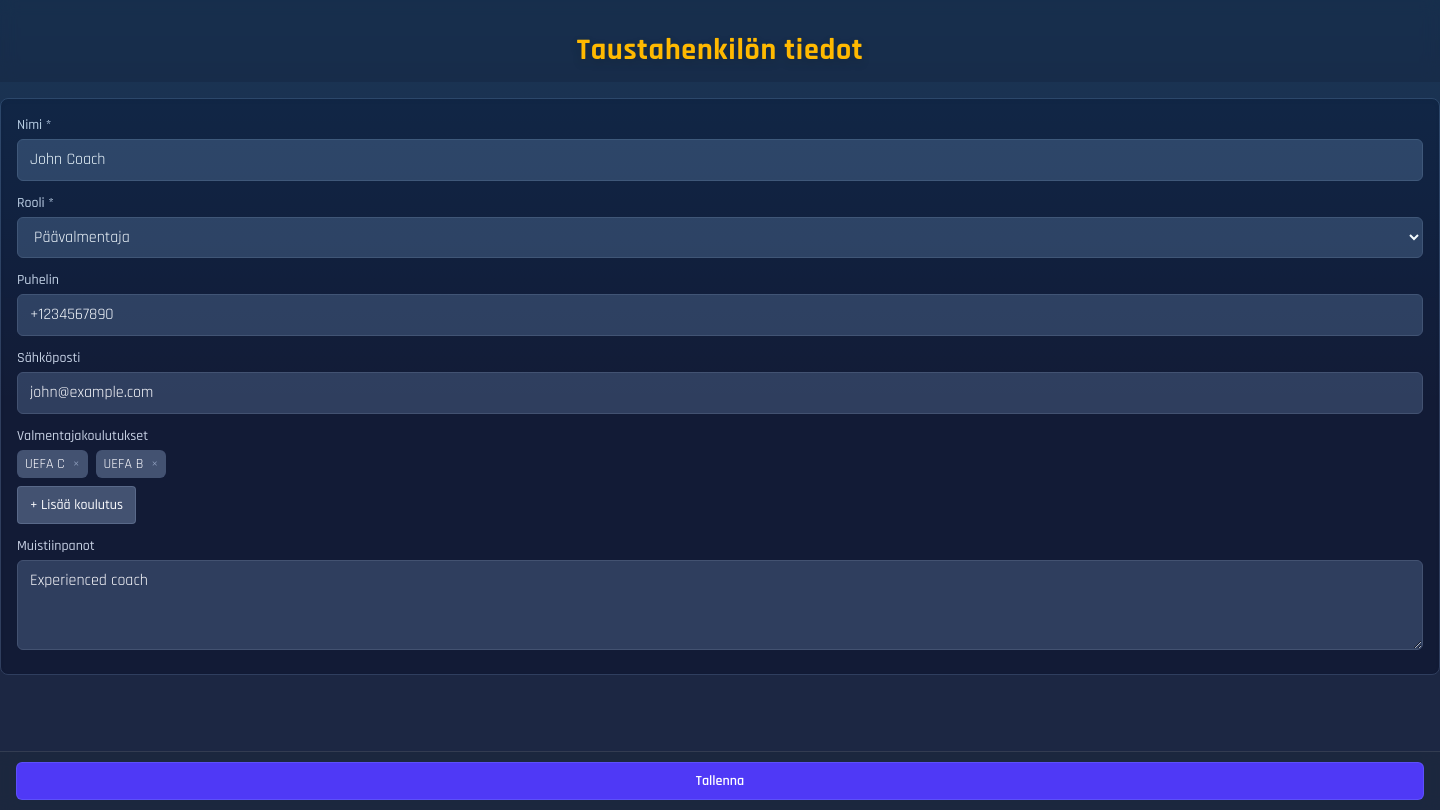
PersonnelDetailsModal › Form Interaction › allows removing certification via × button
Note: Find the remove button for UEFA C
Click the button "×" next to "UEFA C" at x=76, y=464, box [73,454,80,474]
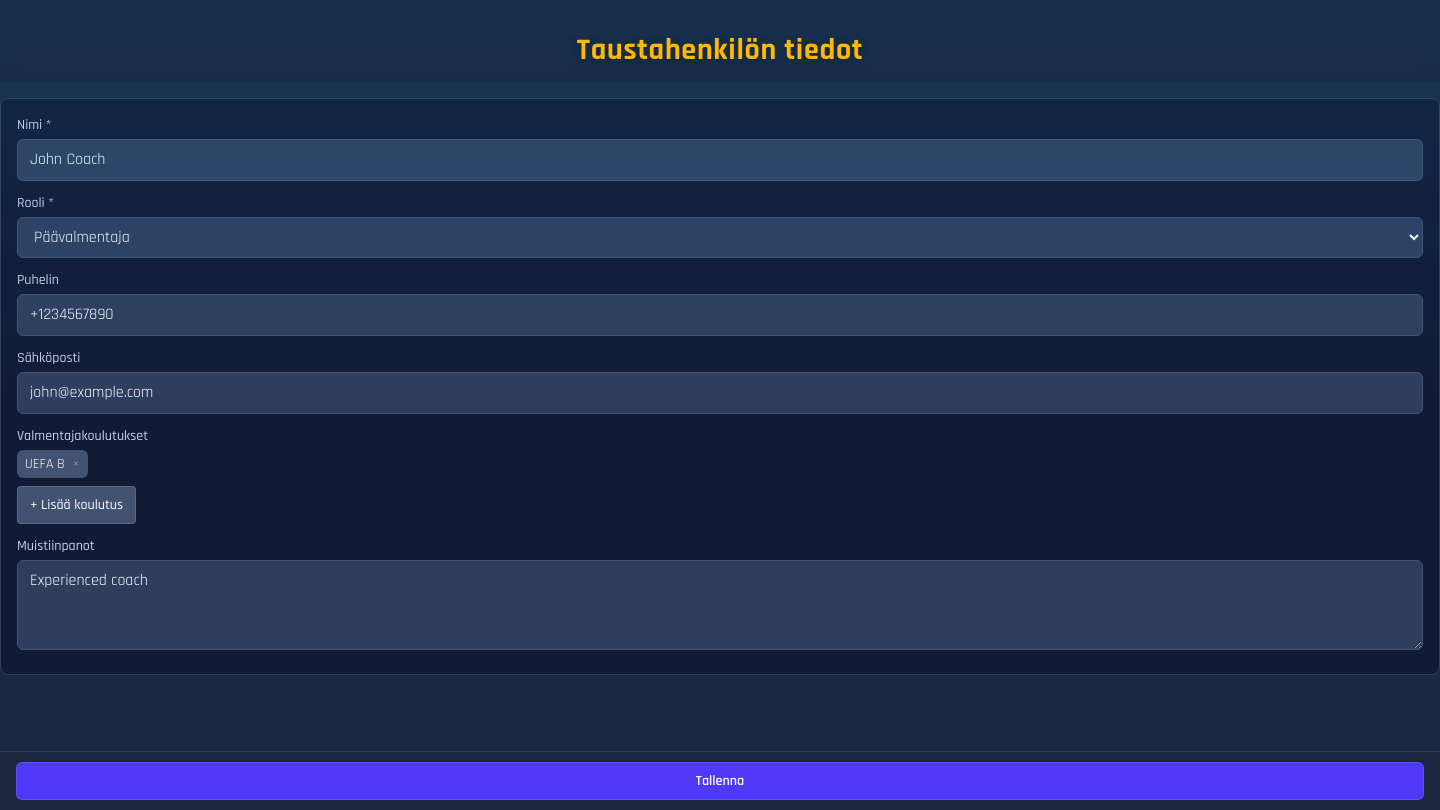
expect the text "UEFA B" is shown: met, box [25,454,65,474]
expect the text "UEFA C" is gone: met
